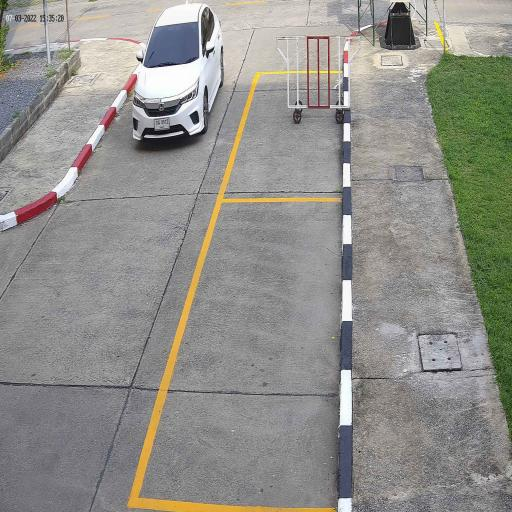car: (131, 4, 224, 142)
